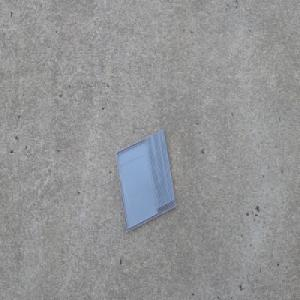PlasticPart: (115, 128, 176, 232)
